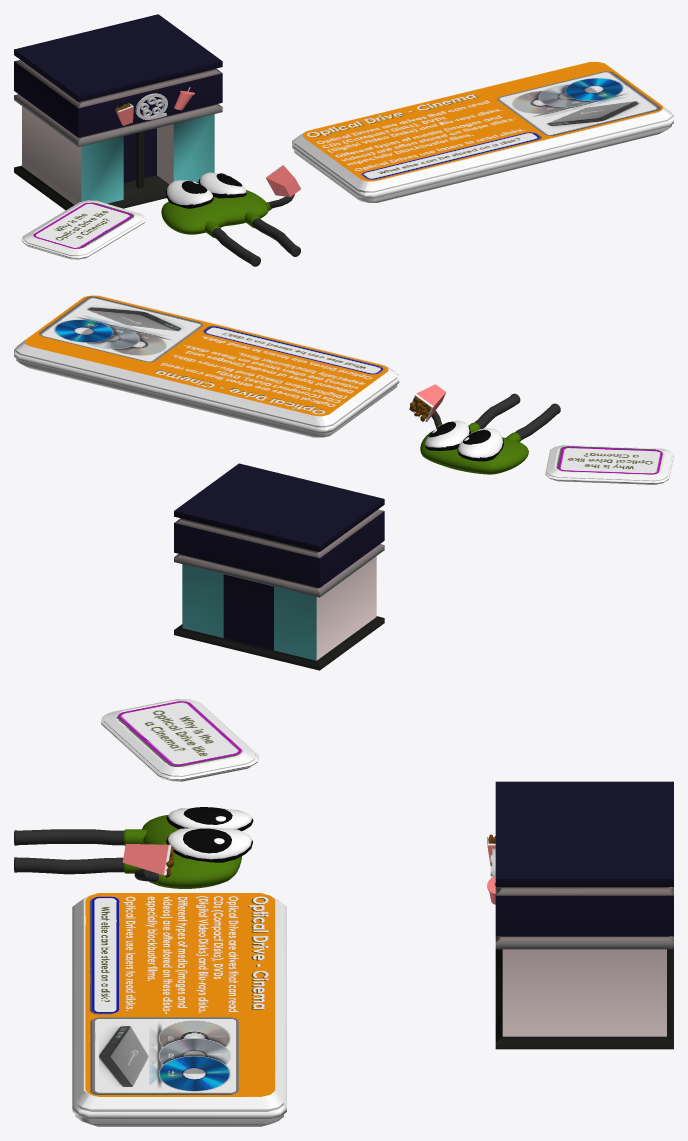
File: combined_optical.obj
3 views of the same model, one above another, from view 1: azimuth 30°, elevation 25°; view 2: azimuth 150°, elevation 25°; view 3: azimuth 270°, elevation 25° (orthographic). The views are drawn at different scales.
Parts seen in each view (by area): view 1: mod_cinema, HardDrive1, char_4, HardDrive2; view 2: mod_cinema, HardDrive1, char_4, HardDrive2; view 3: HardDrive1, mod_cinema, char_4, HardDrive2.
Part boxes in pixels (x1,y1,x2,y2): mod_cinema: (14, 14, 222, 210); HardDrive1: (292, 62, 673, 202); char_4: (161, 165, 300, 266); HardDrive2: (21, 200, 145, 259); mod_cinema: (174, 463, 384, 670); HardDrive1: (14, 295, 399, 437); char_4: (409, 384, 560, 474); HardDrive2: (545, 445, 673, 484); HardDrive1: (72, 893, 286, 1126); mod_cinema: (487, 781, 673, 1049); char_4: (14, 807, 253, 888); HardDrive2: (101, 699, 258, 781).
Bounding box in the file's own units: 15.42 × 2.95 × 10.34.
